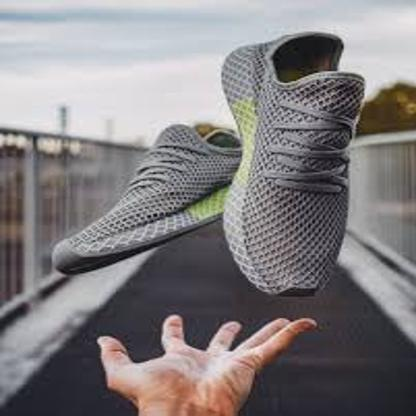not trash: (216, 23, 357, 294), (49, 115, 244, 266)
